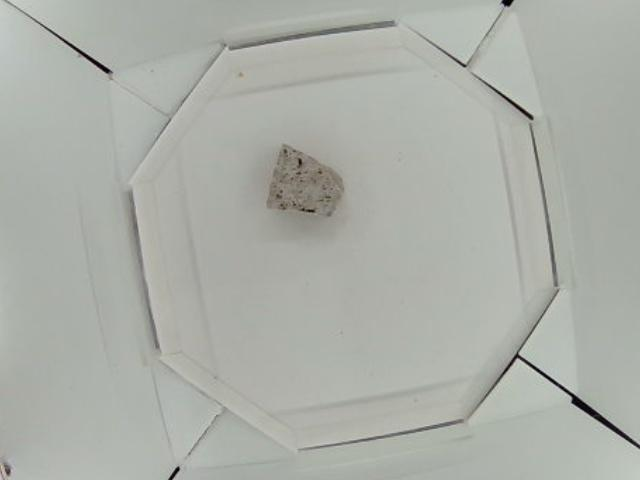China: (268, 143, 344, 216)
